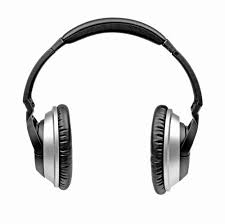headphone: (17, 15, 206, 196)
